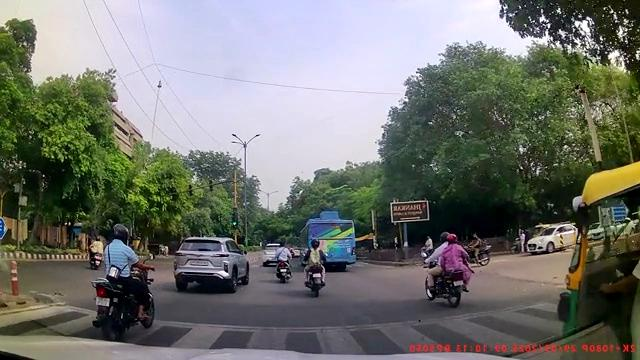motorcycle_with_helmet: (92, 222, 158, 339), (303, 238, 328, 297)
motorcycle_without_helmet: (275, 241, 293, 283)
passenger_with_helmet: (424, 230, 472, 308)
passenger_without_helmet: (424, 230, 472, 308)
